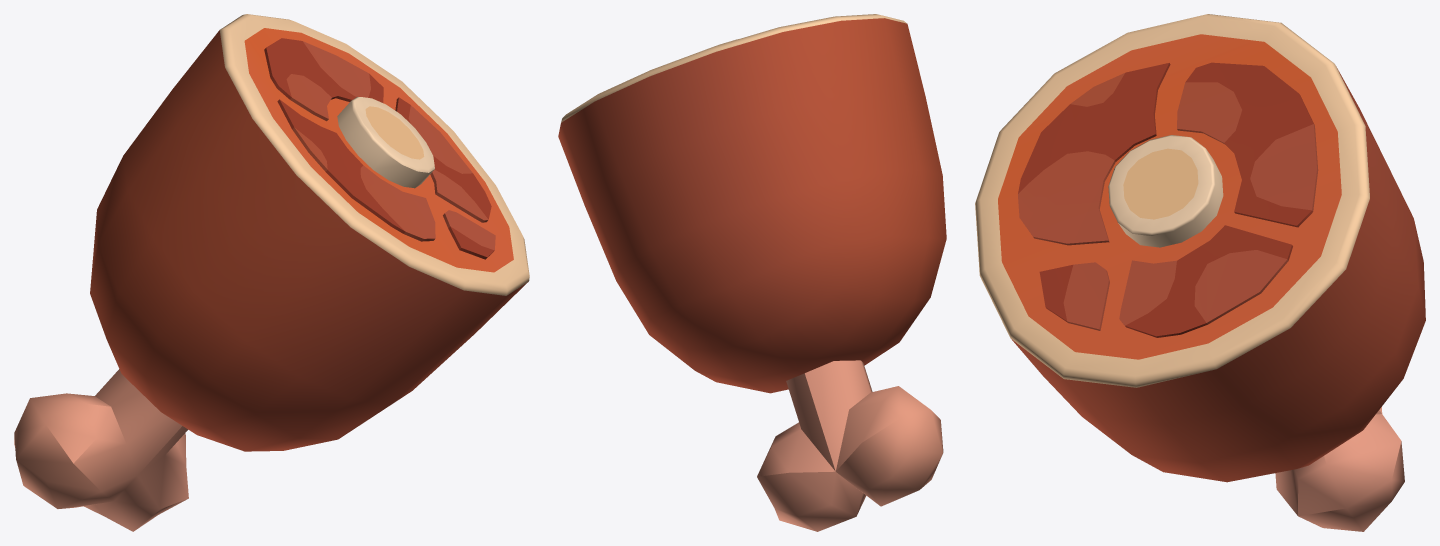
The picture shows the model from 3 angles, left to right: view 1: azimuth 30°, elevation 25°; view 2: azimuth 150°, elevation 25°; view 3: azimuth 270°, elevation 25°; orthographic projection. The views are drawn at different scales.
Visible parts, largest first — view 1: model_0.051; view 2: model_0.051; view 3: model_0.051.
Boxes of the visible parts, x1=… form: model_0.051: x1=14, y1=14, x2=529, y2=531; model_0.051: x1=558, y1=14, x2=946, y2=531; model_0.051: x1=975, y1=14, x2=1425, y2=531.
Size of the model in its own units: 3.67 by 4 by 3.06.
